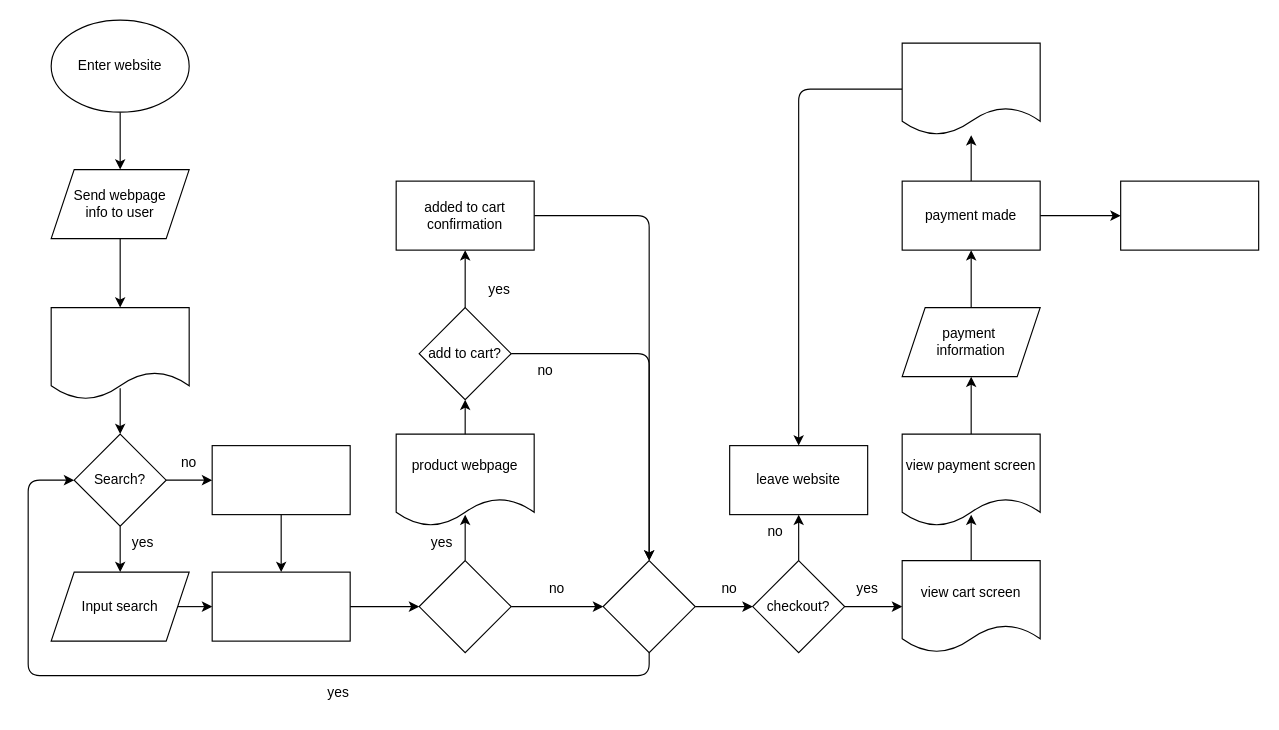
Some shapes in this 1279 by 730 pixel diagram are drawn without their labels. Each missing label, with the box of its shape:
continue shopping?: (602, 559, 695, 653)
Look over products: (211, 571, 350, 641)
main page: (50, 306, 189, 400)
order confirmation screen: (901, 42, 1040, 135)
send email to user: (1120, 180, 1259, 250)
Stay on home page: (211, 444, 350, 515)
View specific product: (418, 559, 511, 653)
